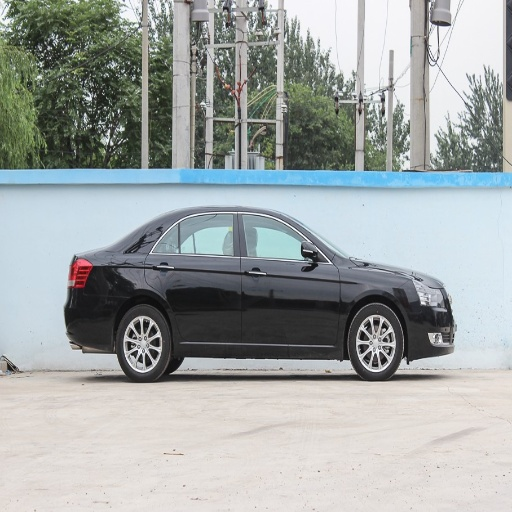back_right_door: (147, 209, 242, 343)
front_right_door: (241, 209, 340, 355)
